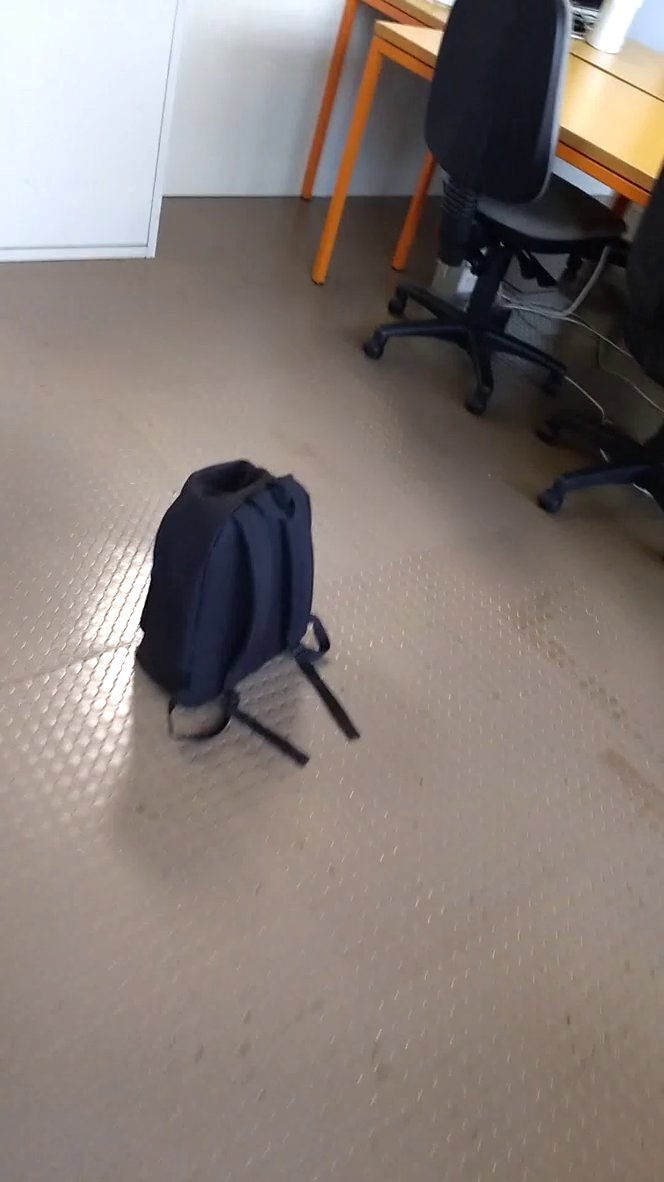bag: (126, 447, 374, 774)
chair: (421, 1, 599, 416)
